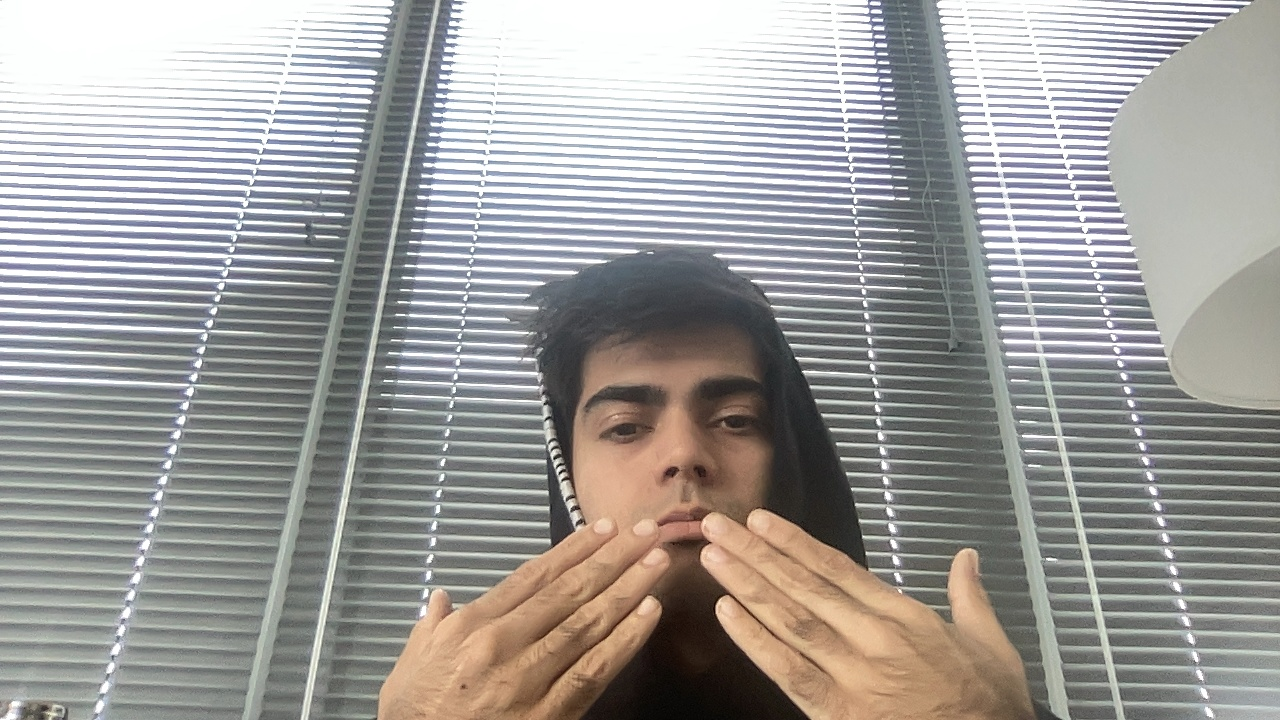thank you: (327, 444, 1110, 720)
